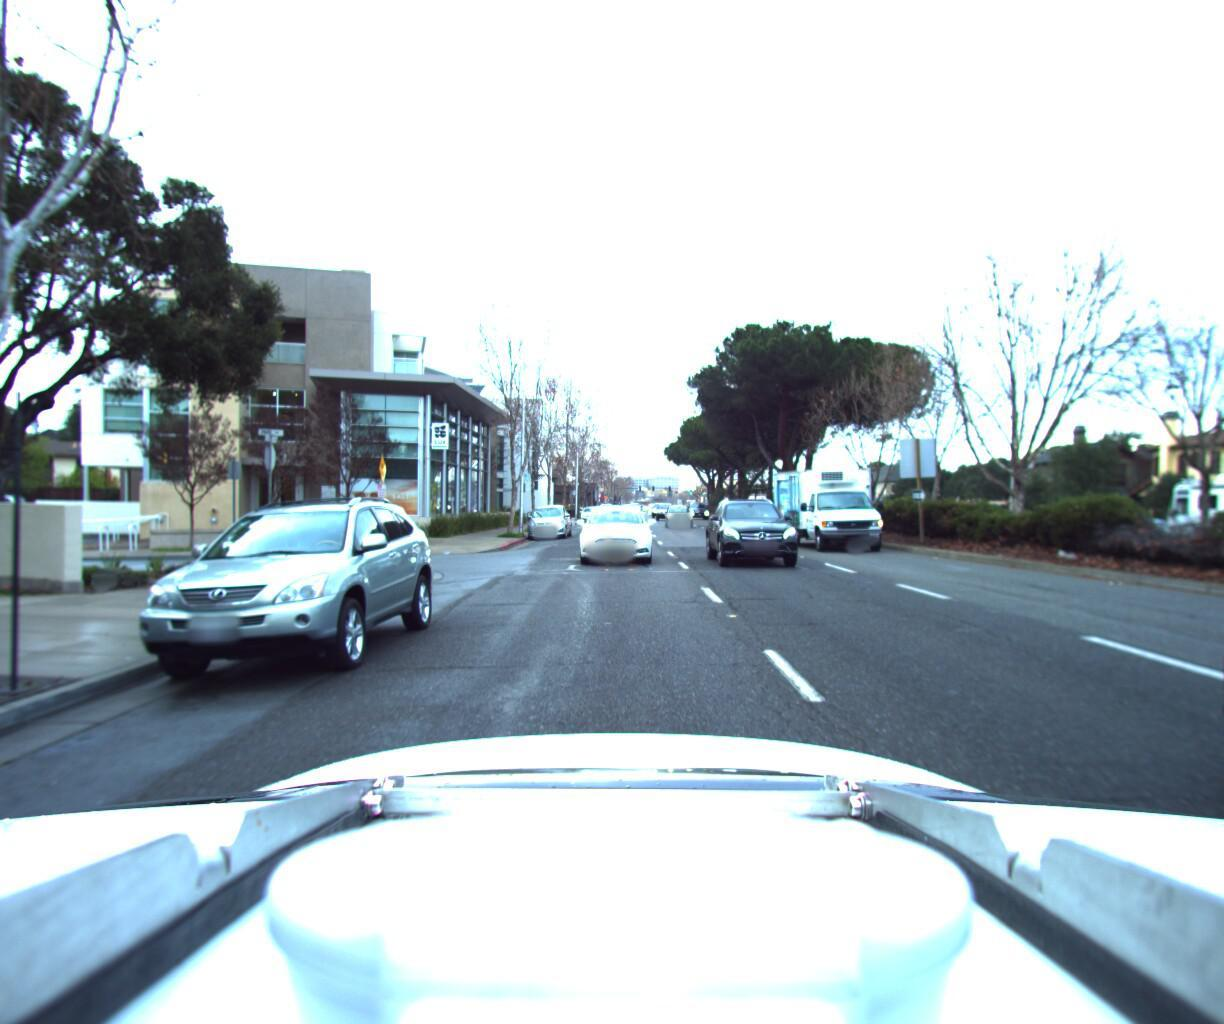car: (103, 491, 437, 702), (705, 489, 818, 568), (574, 496, 653, 561), (937, 478, 1018, 509), (523, 496, 572, 535), (660, 500, 698, 525), (580, 497, 601, 515), (688, 500, 709, 516)
other_vehicle: (1149, 450, 1224, 561)
truck: (774, 450, 912, 549)
